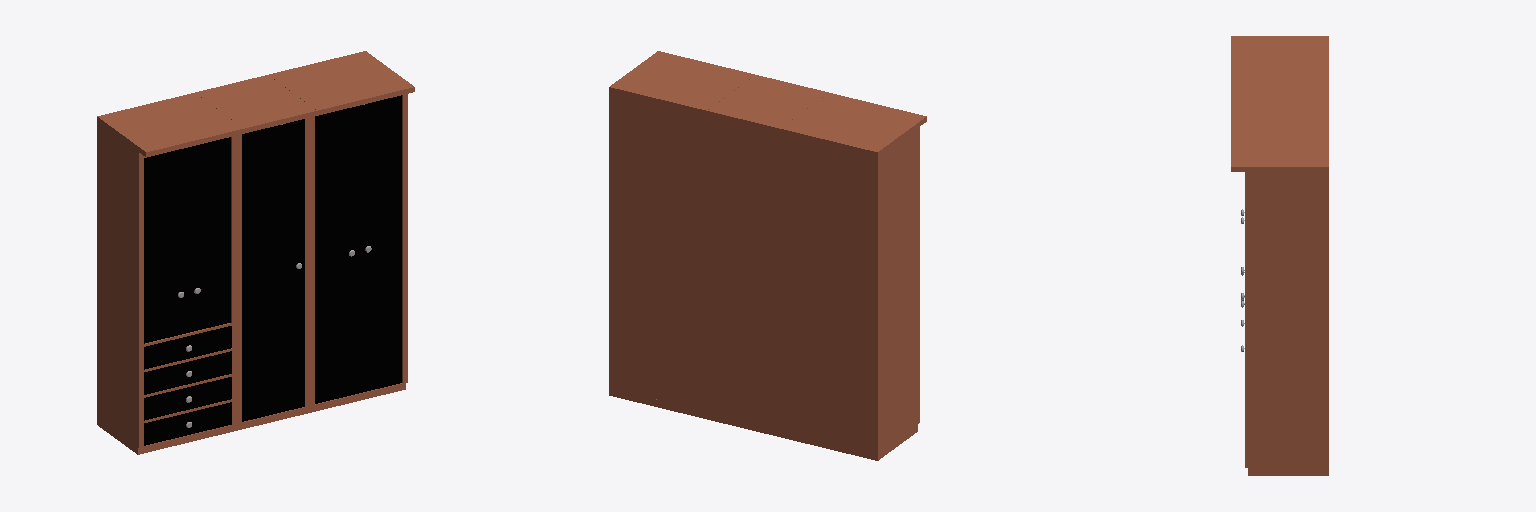
Rendered from 16958_Closet.obj.
The picture shows the model from 3 angles: view 1: azimuth 30°, elevation 25°; view 2: azimuth 150°, elevation 25°; view 3: azimuth 270°, elevation 25°; orthographic projection.
Visible parts, largest first — view 1: Box060, Box04, Box061, Box130, Box06, Box13, Box01, Box011, Box010, Box17, Box18, Box19 (+8 smaller); view 2: Box02, Box021, Box020, Box04, Box01, Box011, Box010, Box041, Box05, Box040, Box051, Box031 (+2 smaller); view 3: Box031, Box011, Box01, Box010, Box051.
Part boxes in pixels (left/top/right/bottom): Box060: left=242, top=119, right=304, bottom=421; Box04: left=97, top=121, right=143, bottom=447; Box061: left=315, top=106, right=358, bottom=403; Box130: left=359, top=95, right=401, bottom=392; Box06: left=144, top=148, right=187, bottom=343; Box13: left=188, top=137, right=230, bottom=332; Box01: left=97, top=93, right=243, bottom=157; Box011: left=269, top=51, right=414, bottom=115; Box010: left=195, top=75, right=316, bottom=133; Box17: left=144, top=351, right=231, bottom=394; Box18: left=144, top=377, right=231, bottom=420; Box19: left=144, top=402, right=231, bottom=445; Box02: left=781, top=128, right=875, bottom=452; Box021: left=610, top=86, right=704, bottom=410; Box020: left=708, top=110, right=778, bottom=428; Box04: left=873, top=127, right=919, bottom=452; Box01: left=780, top=93, right=926, bottom=157; Box011: left=609, top=51, right=754, bottom=115; Box010: left=707, top=75, right=828, bottom=133; Box041: left=702, top=114, right=706, bottom=411; Box05: left=780, top=424, right=917, bottom=460; Box040: left=775, top=133, right=779, bottom=429; Box051: left=609, top=388, right=706, bottom=418; Box031: left=609, top=92, right=613, bottom=387; Box031: left=1245, top=171, right=1328, bottom=467; Box011: left=1231, top=120, right=1328, bottom=171; Box01: left=1231, top=36, right=1328, bottom=83; Box010: left=1231, top=84, right=1328, bottom=119; Box051: left=1248, top=468, right=1328, bottom=475.
Bounding box in the file's own units: 220 × 242 × 70.